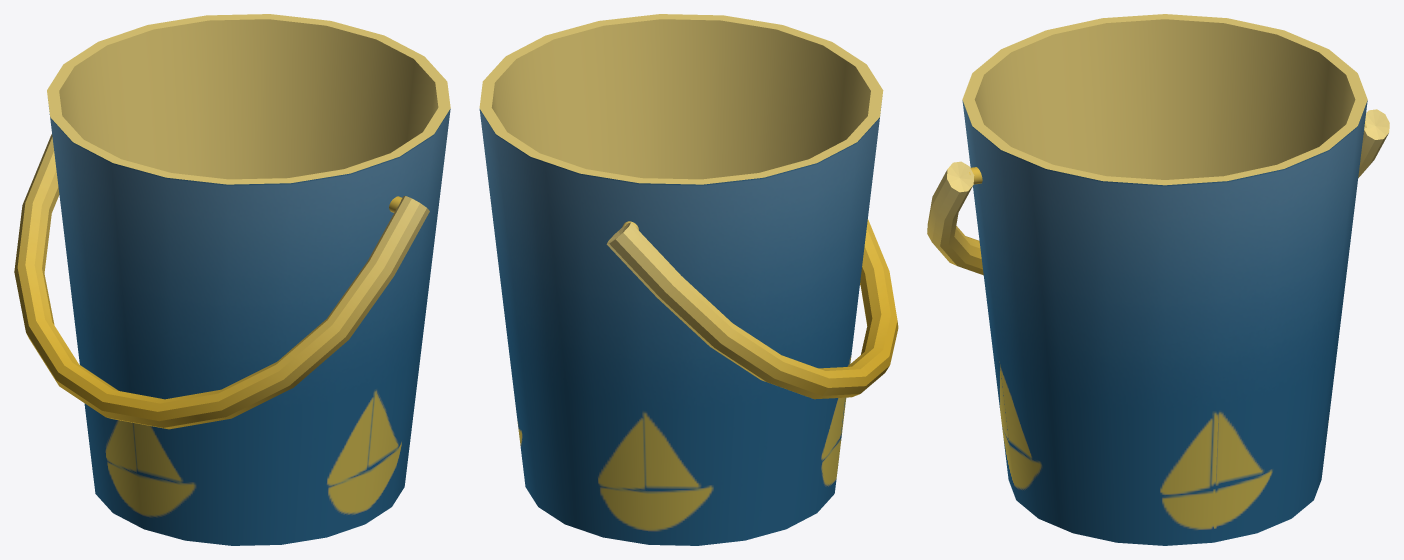
Rendered from bucket.fbx.
The picture shows the model from 3 angles, left to right: view 1: azimuth 30°, elevation 25°; view 2: azimuth 150°, elevation 25°; view 3: azimuth 270°, elevation 25°; orthographic projection.
Visible parts, largest first — view 1: pCylinder1, pCylinder5; view 2: pCylinder1, pCylinder5; view 3: pCylinder1, pCylinder5.
Part boxes in pixels (box(x1,y1,x2,y2)): pCylinder1: box(47, 14, 450, 545); pCylinder5: box(14, 134, 429, 429); pCylinder1: box(479, 14, 883, 545); pCylinder5: box(606, 219, 898, 399); pCylinder1: box(962, 14, 1367, 545); pCylinder5: box(927, 109, 1389, 275).
Size of the model in its own units: 4.95 by 4.94 by 5.45.
